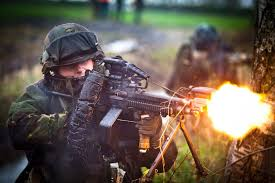gun: (98, 56, 214, 154)
